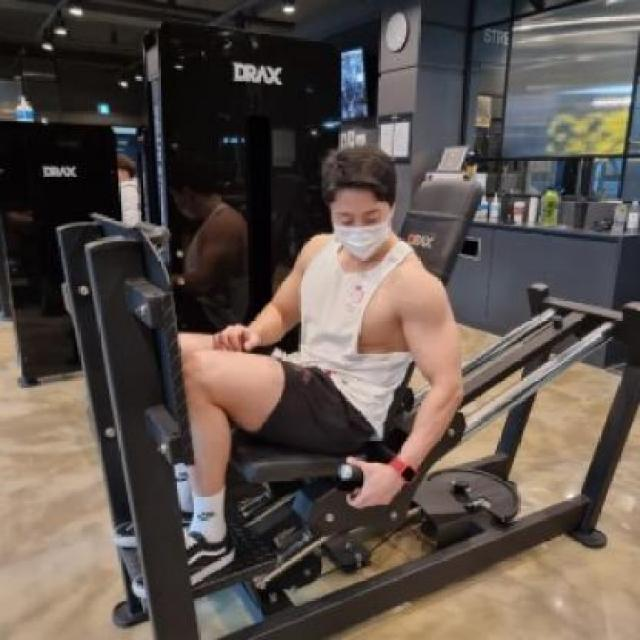leg press: (54, 21, 640, 640)
